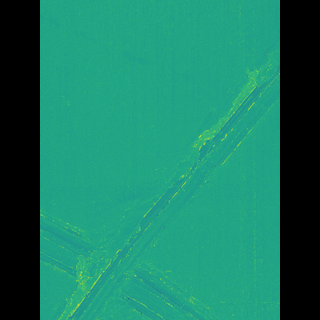Loch: (77, 33, 251, 320), (69, 207, 205, 320)
